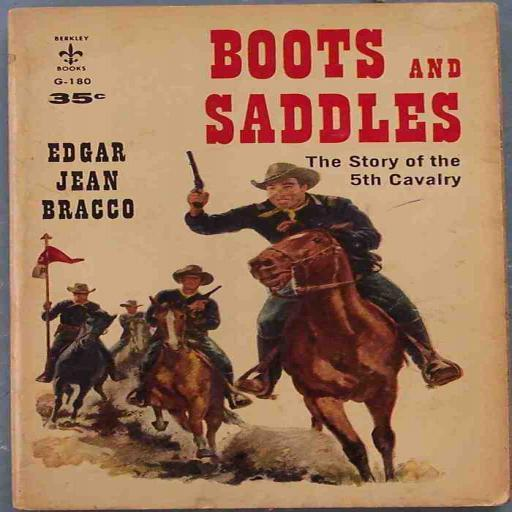horse: (246, 220, 410, 480), (144, 297, 246, 463), (44, 306, 119, 424)
